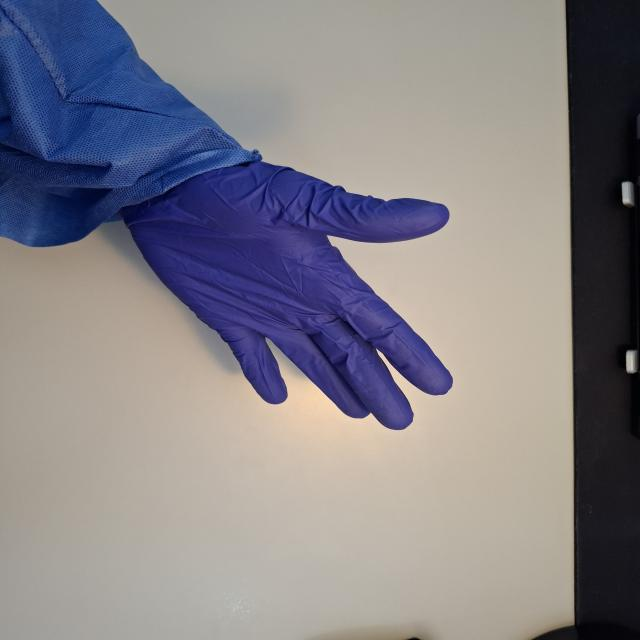glove_on: (113, 153, 457, 433)
